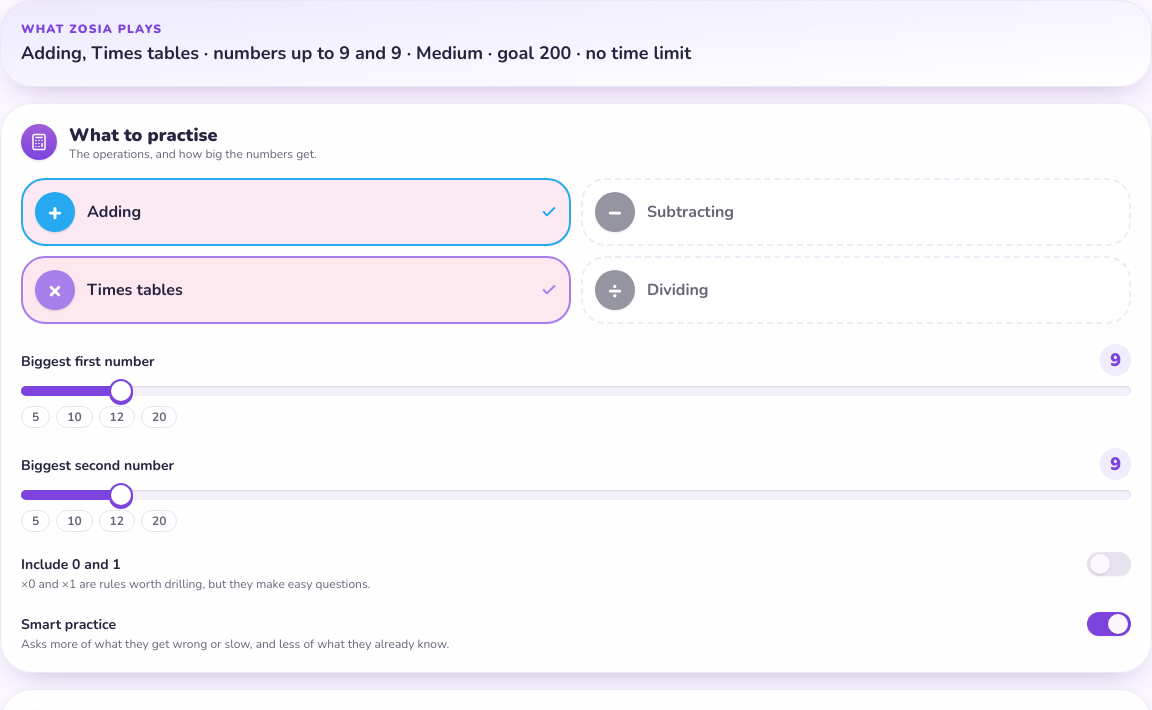
Scenario: SettingsForm › does not count the order operations were ticked in as a change
Off and on again: the same set, in a different order than it started.
Click the button "+ Adding" at (55, 212), box [21, 178, 571, 246]
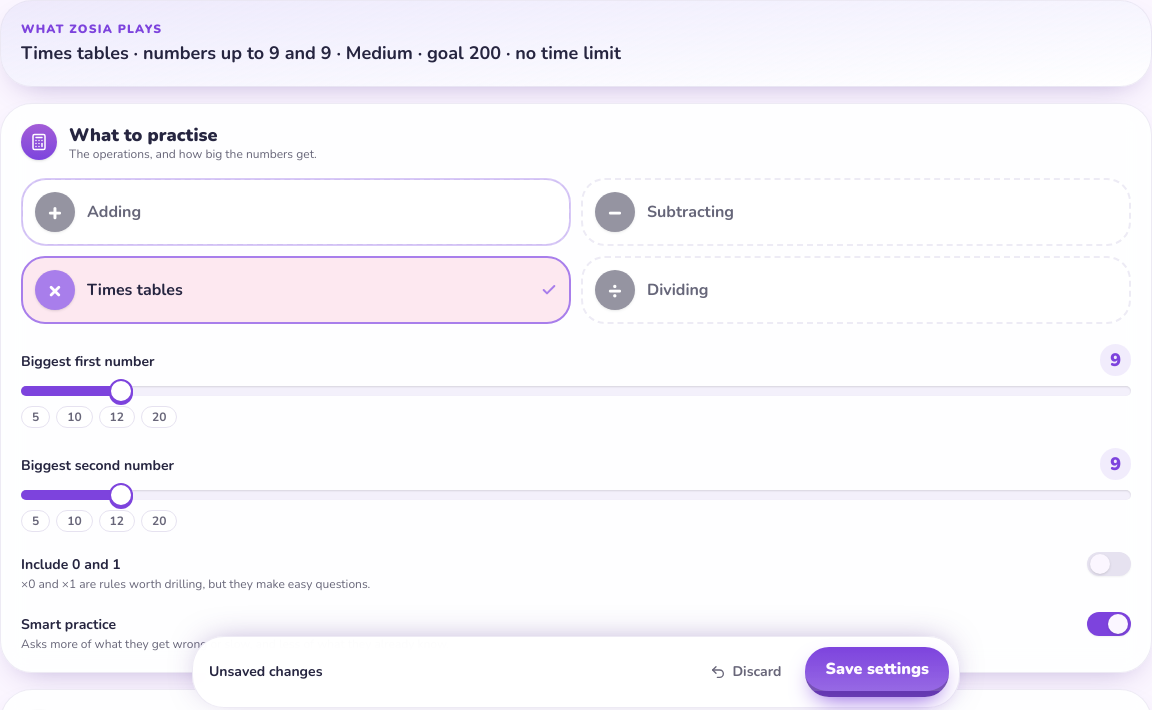
Click the button "+ Adding" at (55, 212), box [21, 178, 571, 246]
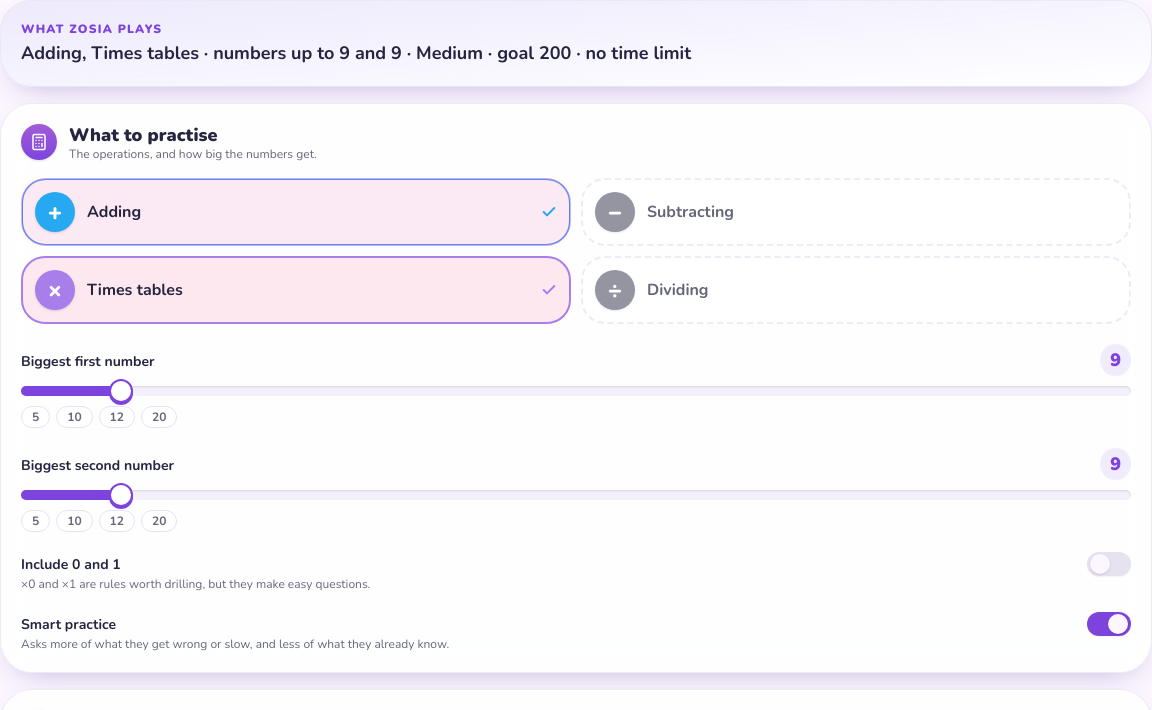
Result: the text "Unsaved changes" is gone
